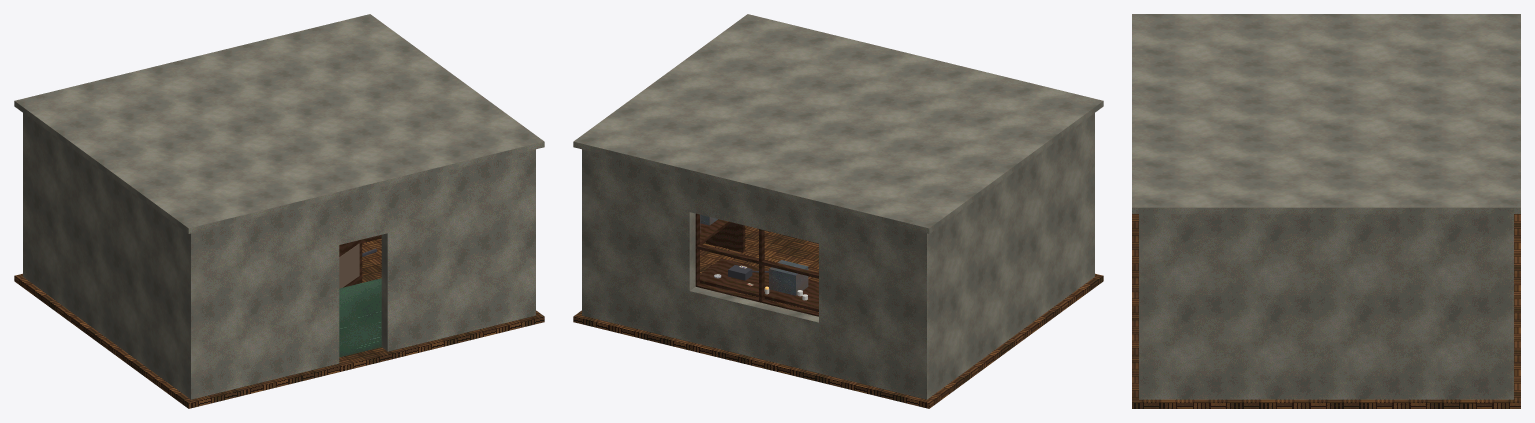
The model's file is prototipo.glb.
The picture shows the model from 3 angles, left to right: view 1: azimuth 30°, elevation 25°; view 2: azimuth 150°, elevation 25°; view 3: azimuth 270°, elevation 25°; orthographic projection. The views are drawn at different scales.
Visible parts, largest first — view 1: plaster-col, parquet_square-col, paint_green, flat.031, wood_dark; view 2: plaster-col, parquet_square-col, wood_dark, wood_dark-col, metal; view 3: plaster-col, parquet_square-col.
Part boxes in pixels (<box>): plaster-col: <box>14,14,544,399</box>; parquet_square-col: <box>14,238,544,408</box>; paint_green: <box>339,278,381,357</box>; flat.031: <box>339,243,359,288</box>; wood_dark: <box>339,235,381,287</box>; plaster-col: <box>573,14,1103,399</box>; parquet_square-col: <box>573,225,1103,408</box>; wood_dark: <box>695,213,818,316</box>; wood_dark-col: <box>700,219,818,311</box>; metal: <box>700,214,808,295</box>; plaster-col: <box>1132,14,1520,399</box>; parquet_square-col: <box>1132,214,1520,408</box>.
Bounding box in the file's own units: 6.6 × 3.2 × 5.6.
Materials: 43 (14 with a texture image).
